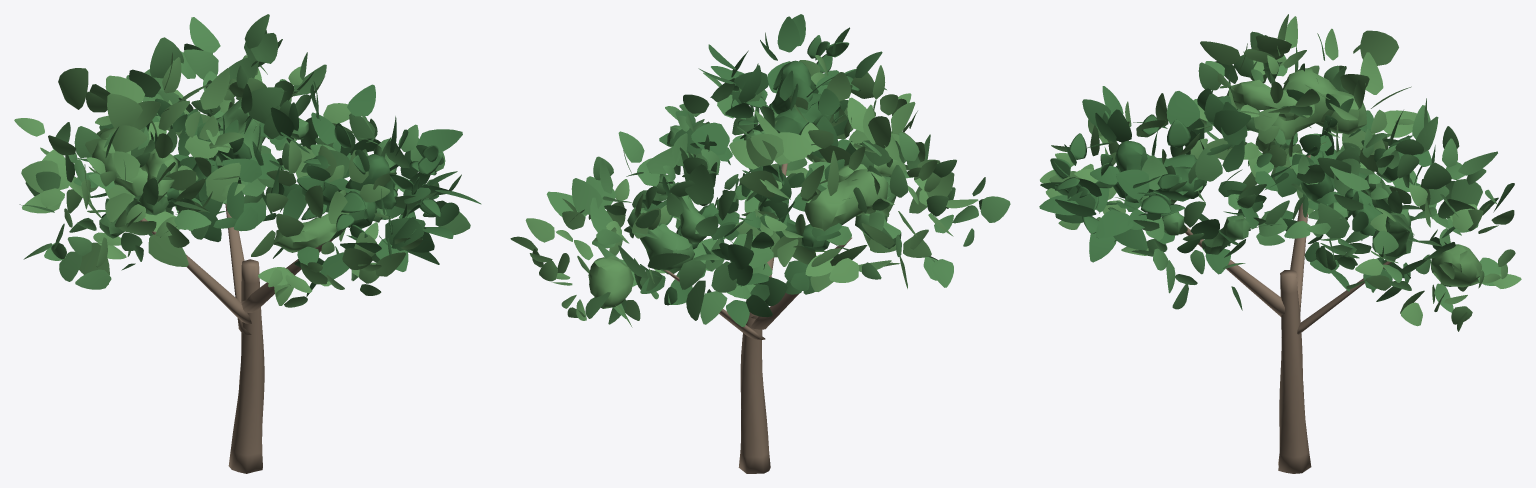
The model's file is tree_broad.glb.
3 renders of one model, left to right at view 1: azimuth 30°, elevation 25°; view 2: azimuth 150°, elevation 25°; view 3: azimuth 270°, elevation 25°, orthographic. The views are drawn at different scales.
Visible parts, largest first — view 1: tree_broad; view 2: tree_broad; view 3: tree_broad.
Part boxes in pixels (x1,y1,x2,y2): tree_broad: (14, 14, 481, 473); tree_broad: (510, 14, 1010, 473); tree_broad: (1039, 14, 1521, 473).
Size of the model in its own units: 4.81 by 4.46 by 5.02.
